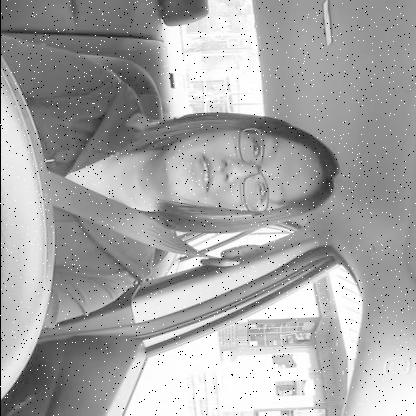seatbelt: (27, 113, 341, 271)
